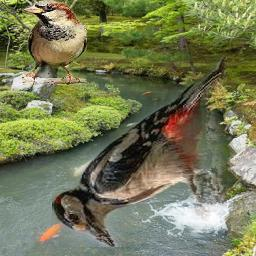Sparrow: (23, 1, 88, 86)
Woodpecker: (53, 55, 228, 247)
